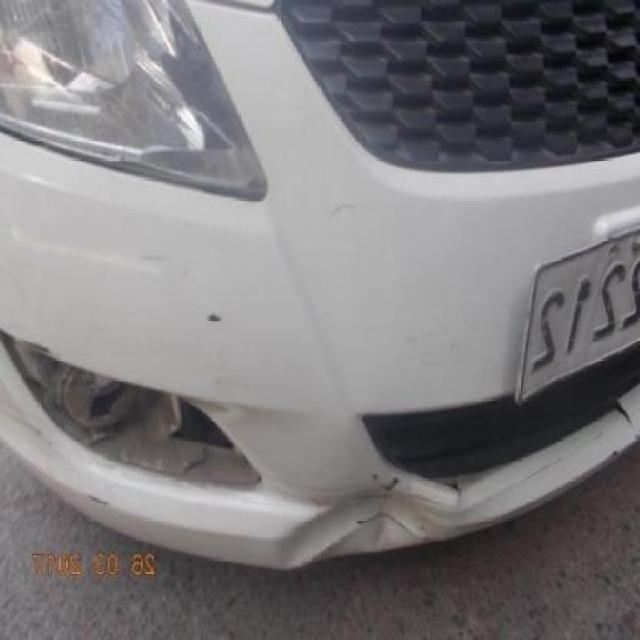damage: (0, 328, 263, 496), (282, 481, 456, 572)
